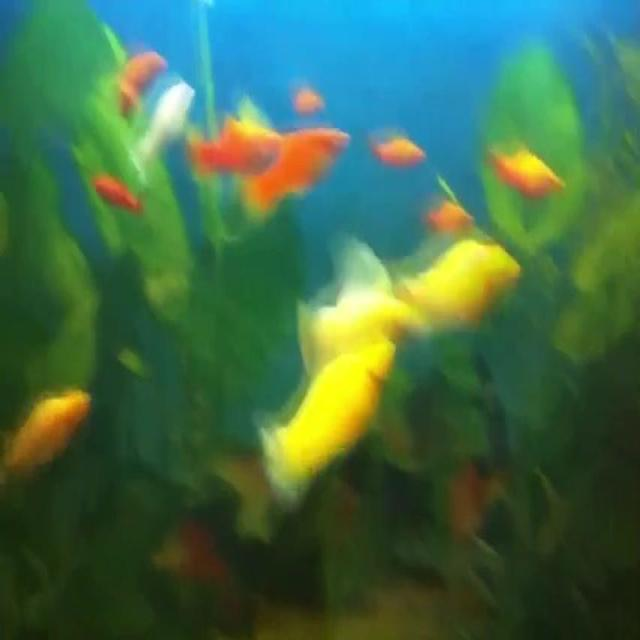PlatyFish: (202, 326, 402, 558), (235, 109, 354, 232)
